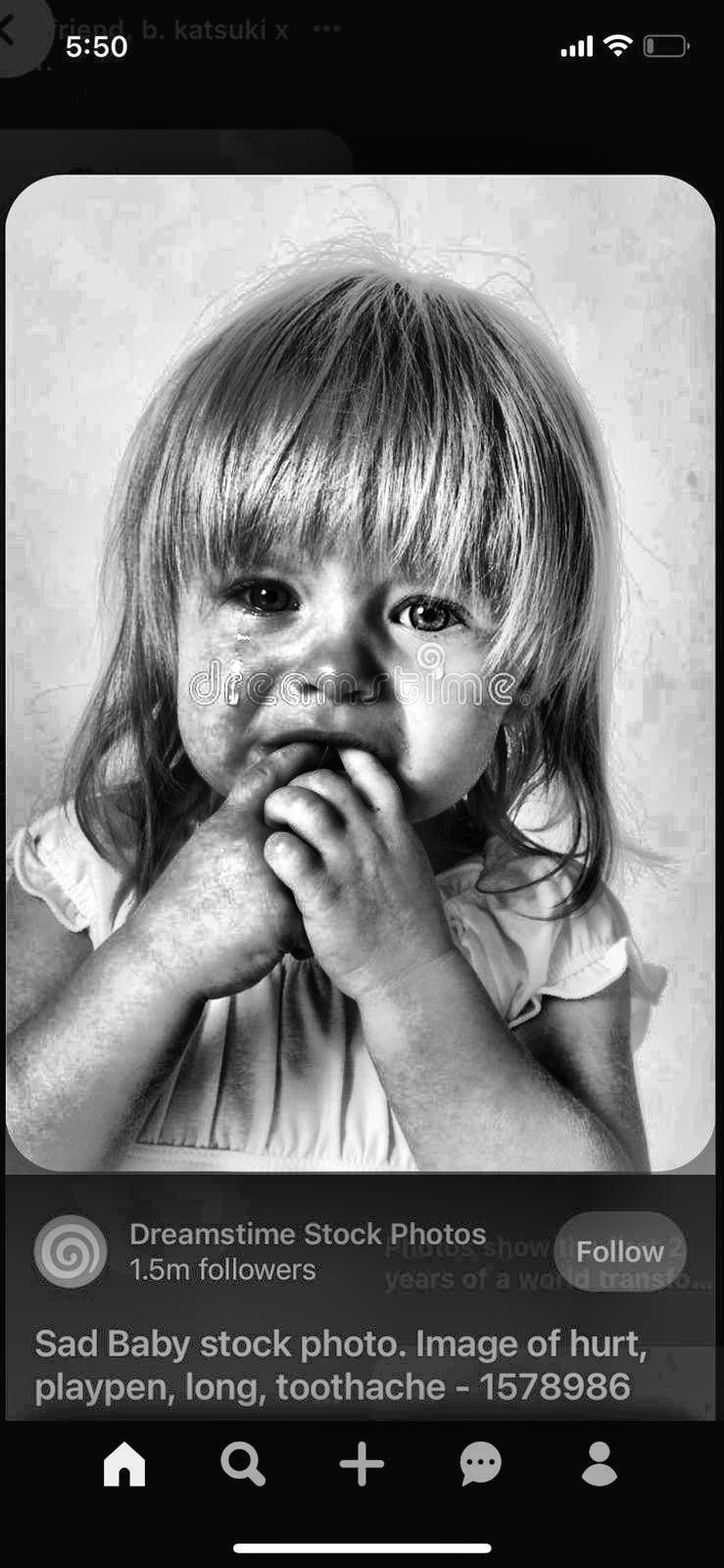sad: (133, 324, 576, 878)
